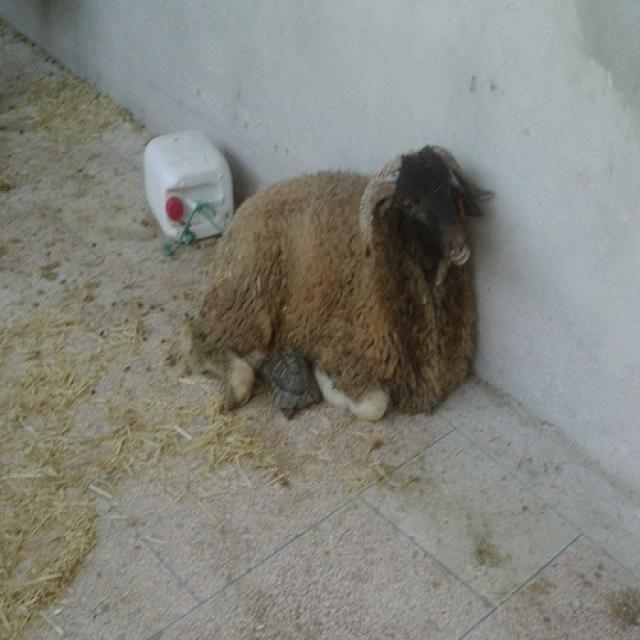sheep: (178, 148, 494, 412)
